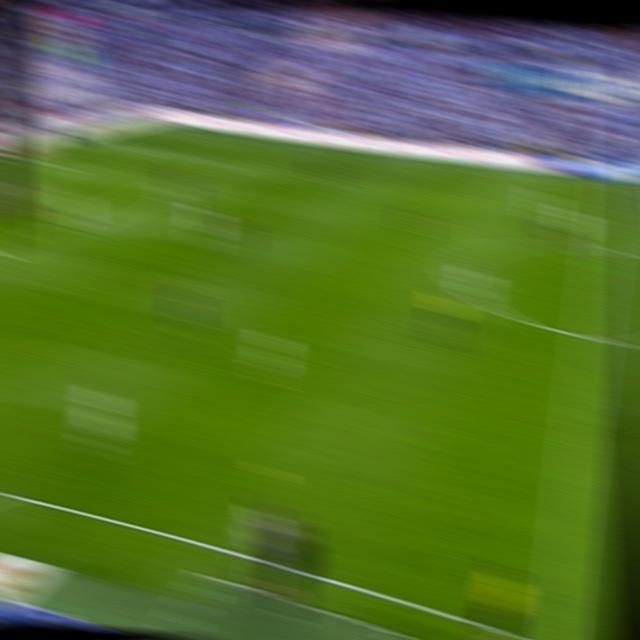corner: (142, 118, 167, 132)
halfcircle_bottom: (575, 322, 607, 353)
halfcircle_top: (587, 237, 617, 263)
midline_bottom_intersection: (539, 625, 573, 640)
midline_top_intersection: (597, 177, 623, 194)
top_arc_area_intersection: (155, 177, 180, 197)
